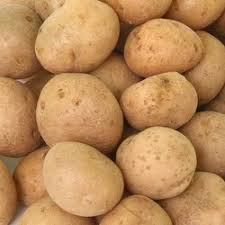potato: (114, 128, 205, 201), (38, 75, 123, 148), (42, 139, 116, 211), (32, 5, 114, 69), (128, 24, 205, 76), (122, 70, 186, 129), (0, 74, 40, 159), (191, 100, 225, 178), (173, 171, 222, 225), (192, 30, 225, 105), (0, 1, 38, 65), (167, 0, 222, 26), (92, 0, 172, 17)
